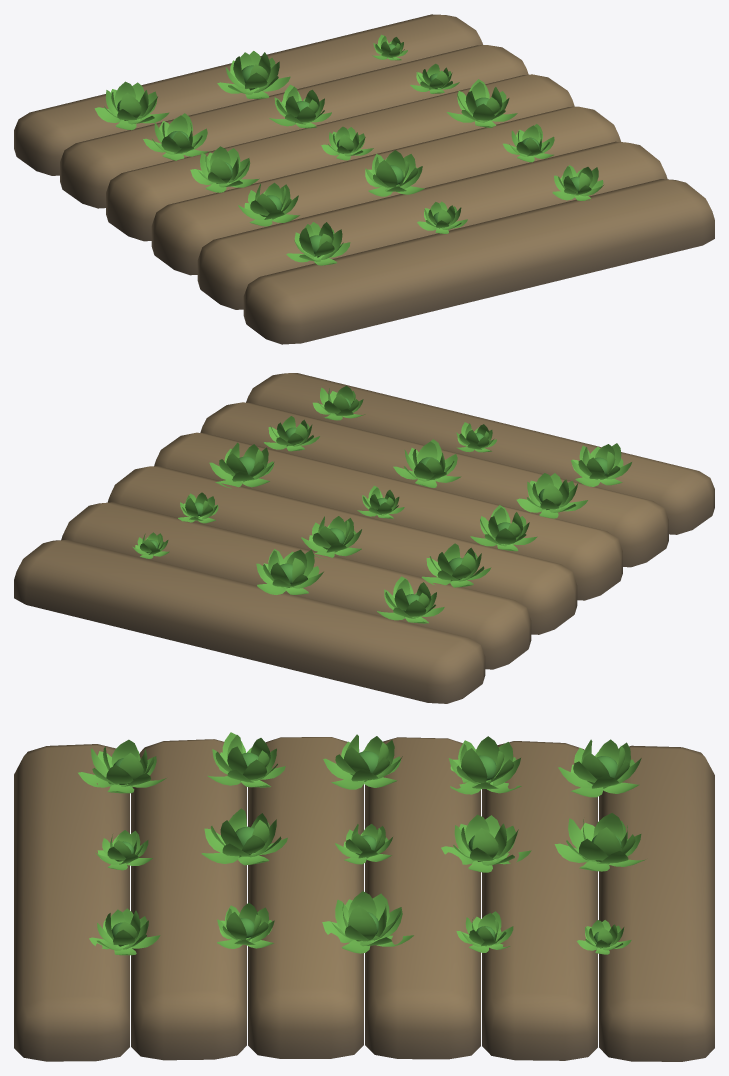
The model's file is SM_Crop_3.fbx.
3 renders of one model, top to bottom at view 1: azimuth 30°, elevation 25°; view 2: azimuth 150°, elevation 25°; view 3: azimuth 270°, elevation 25°, orthographic. The views are drawn at different scales.
Visible parts, largest first — view 1: SM_Crop_3; view 2: SM_Crop_3; view 3: SM_Crop_3.
Boxes of the visible parts, left/top/right/bottom form: SM_Crop_3: left=14, top=14, right=714, bottom=344; SM_Crop_3: left=14, top=373, right=714, bottom=703; SM_Crop_3: left=14, top=732, right=714, bottom=1061.
Size of the model in its own units: 309 by 51.23 by 330.
